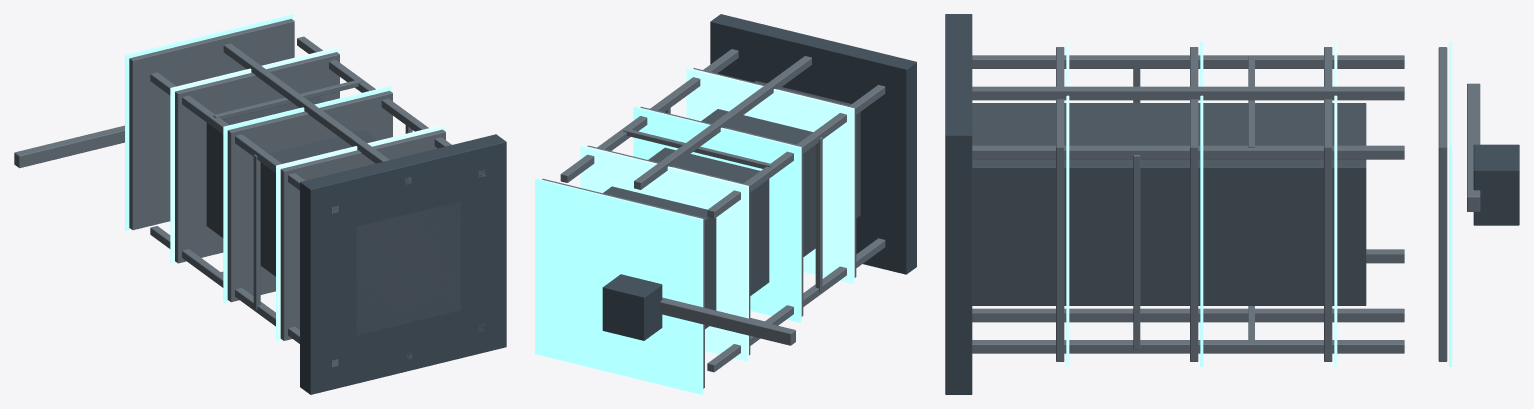
Rendered from mass_scaffold_ring_rift_l.glb.
3 renders of one model, left to right at view 1: azimuth 30°, elevation 25°; view 2: azimuth 150°, elevation 25°; view 3: azimuth 270°, elevation 25°, orthographic. The views are drawn at different scales.
Visible parts, largest first — view 1: FlightKit_MassScaffold_rift_L; view 2: FlightKit_MassScaffold_rift_L; view 3: FlightKit_MassScaffold_rift_L.
Part boxes in pixels (x1=…): FlightKit_MassScaffold_rift_L: x1=14, y1=14, x2=506, y2=394; FlightKit_MassScaffold_rift_L: x1=535, y1=14, x2=916, y2=394; FlightKit_MassScaffold_rift_L: x1=945, y1=14, x2=1519, y2=394.
Size of the model in its own units: 10.75 by 7.5 by 15.
